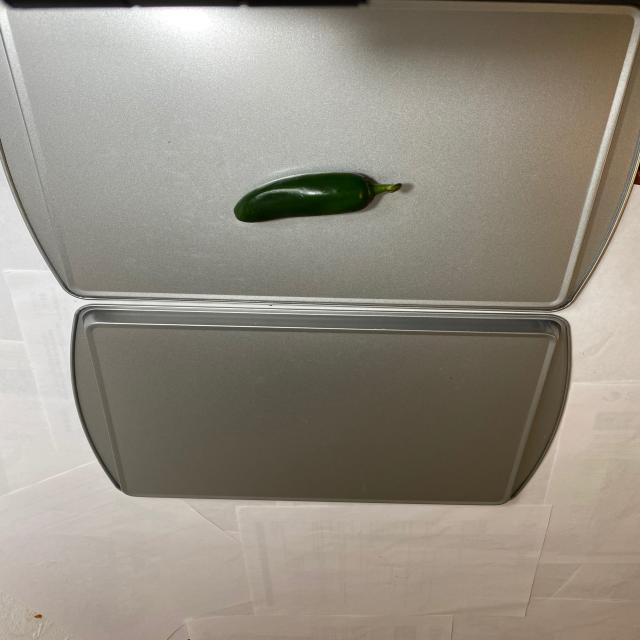chilli: (221, 167, 426, 234)
